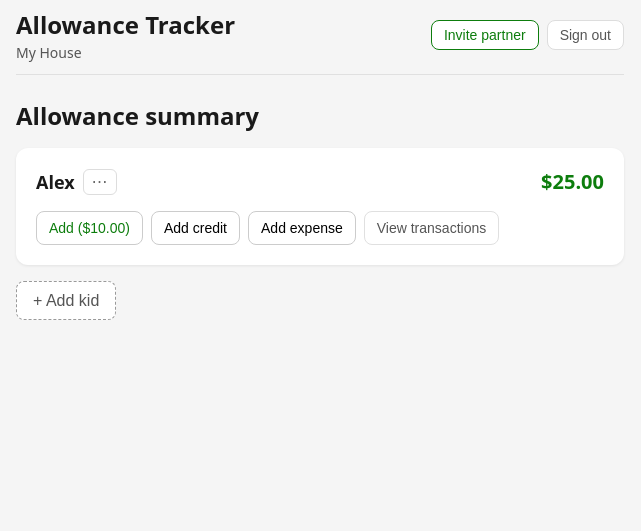
it: App › switches to add transaction view when Add credit is clicked
Click the button "Add credit".
click(196, 228)  # box [151,211,240,245]
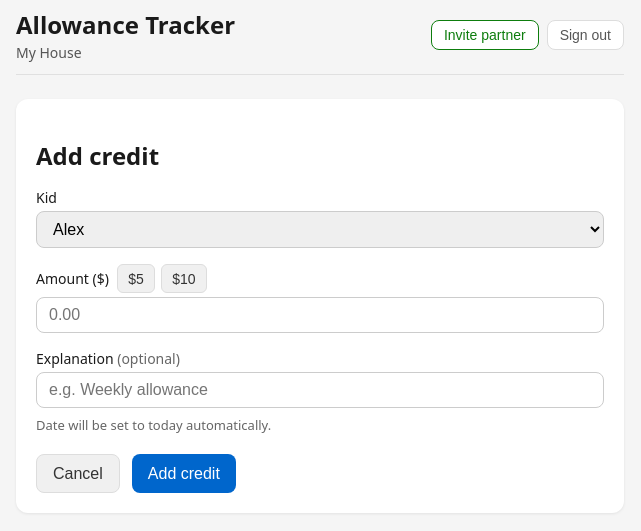
Expected: the heading "Add credit" is shown, [36,139,159,172]
